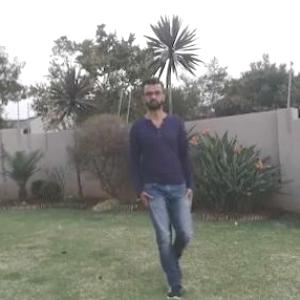follow: (140, 91, 194, 276)
